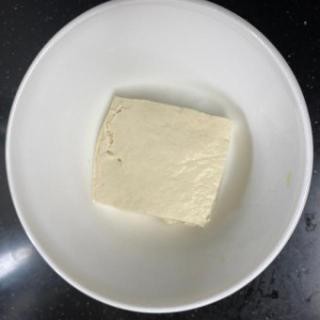Tahu: (93, 96, 234, 227)
